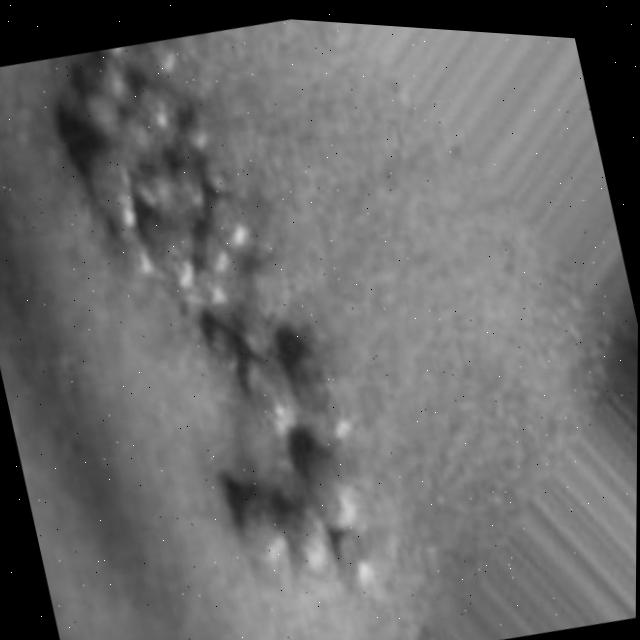Shingles: (26, 2, 418, 627)
